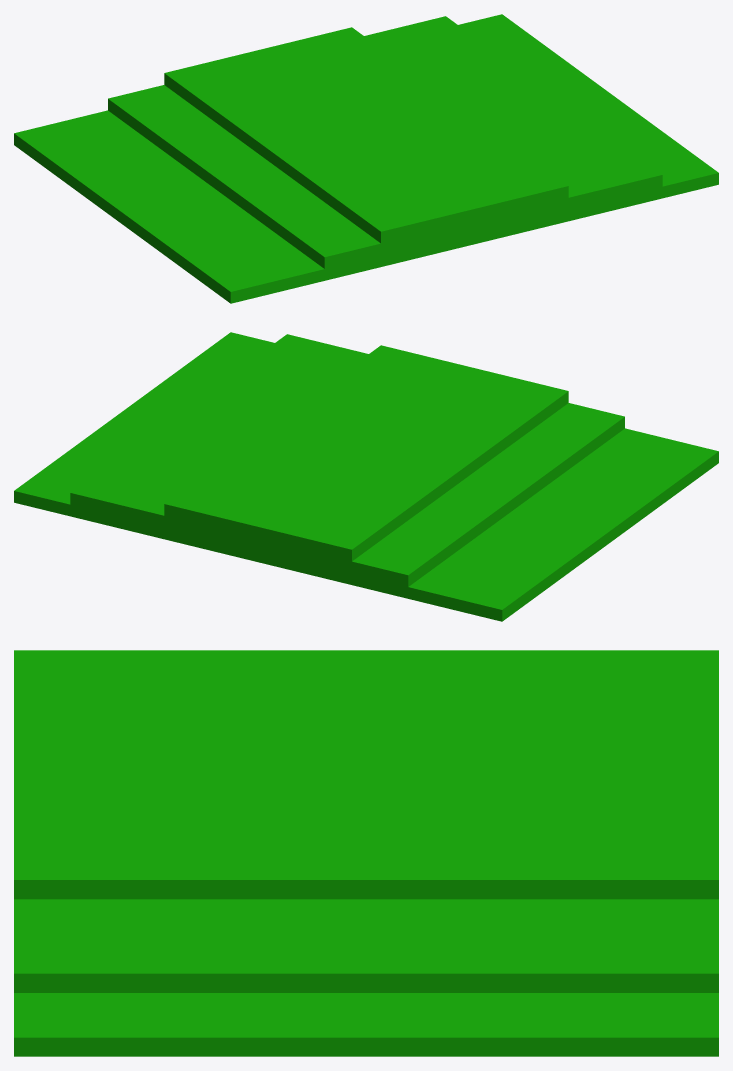
The model's file is Stairs.dae.
The picture shows the model from 3 angles, top to bottom: view 1: azimuth 30°, elevation 25°; view 2: azimuth 150°, elevation 25°; view 3: azimuth 270°, elevation 25°; orthographic projection. The views are drawn at different scales.
Parts seen in each view (by area): view 1: node0; view 2: node0; view 3: node0.
Part boxes in pixels (x1,y1,x2,y2): node0: [14, 14, 718, 303]; node0: [14, 332, 718, 621]; node0: [14, 650, 718, 1056].
Bounding box in the file's own units: 1300 × 1000 × 90.
